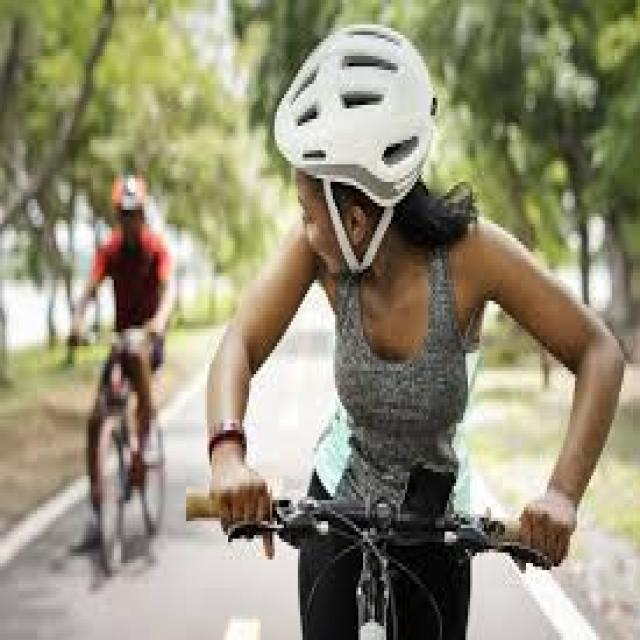Helmet: (275, 23, 440, 211)
